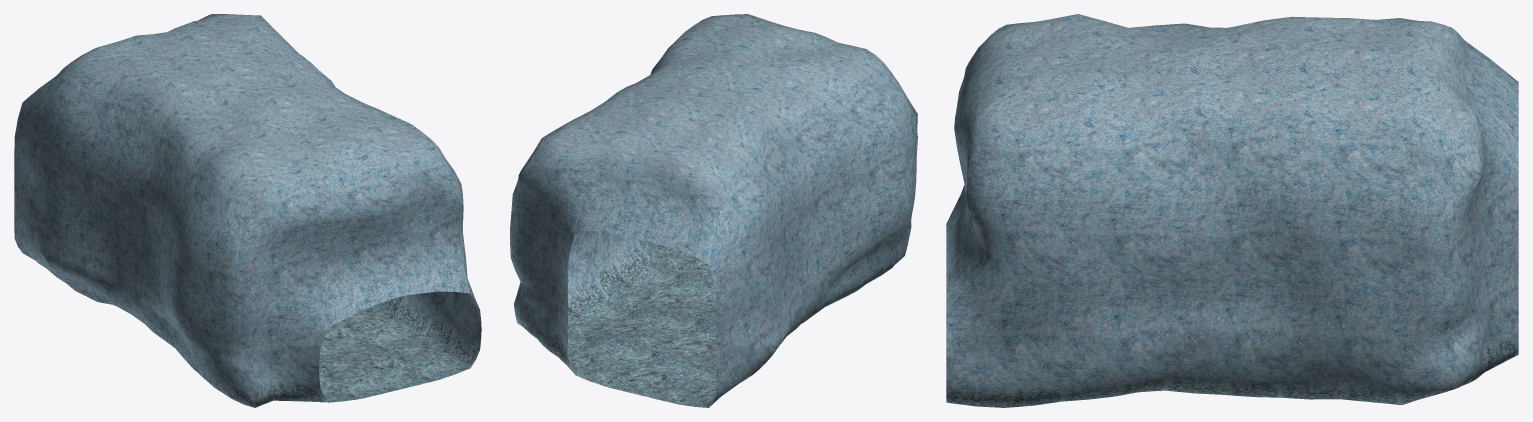
Rendered from thm_all_cave_flatland_s03_ice_r10_r10.fbx.
3 views of the same model, side by side, from view 1: azimuth 30°, elevation 25°; view 2: azimuth 150°, elevation 25°; view 3: azimuth 270°, elevation 25° (orthographic). The views are drawn at different scales.
Parts seen in each view (by area): view 1: mesh_node; view 2: mesh_node; view 3: mesh_node.
Part boxes in pixels (<box>): mesh_node: <box>14,14,481,407</box>; mesh_node: <box>510,14,917,407</box>; mesh_node: <box>946,14,1518,407</box>.
Bounding box in the file's own units: 27.52 × 23.69 × 40.81.
